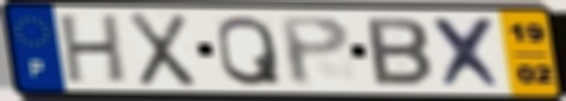B: (363, 15, 437, 89)
H: (58, 11, 129, 86)
P: (275, 14, 355, 89)
Q: (214, 13, 285, 88)
X: (428, 15, 510, 91), (125, 10, 199, 89)
